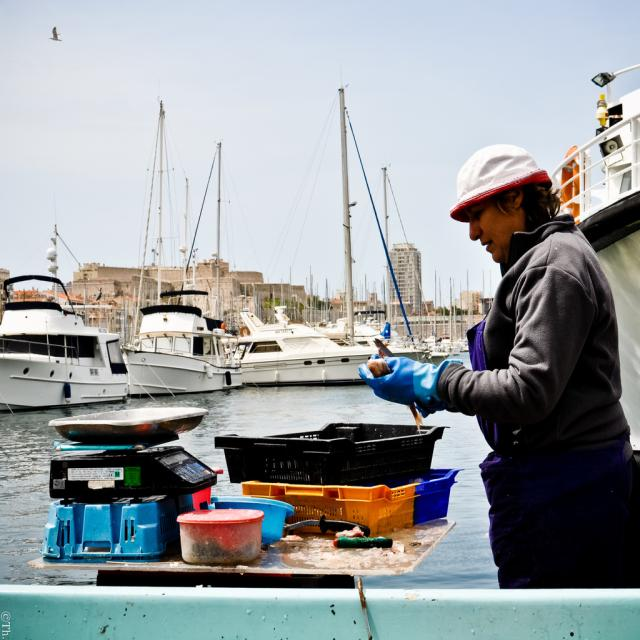Hat: (445, 142, 551, 222)
